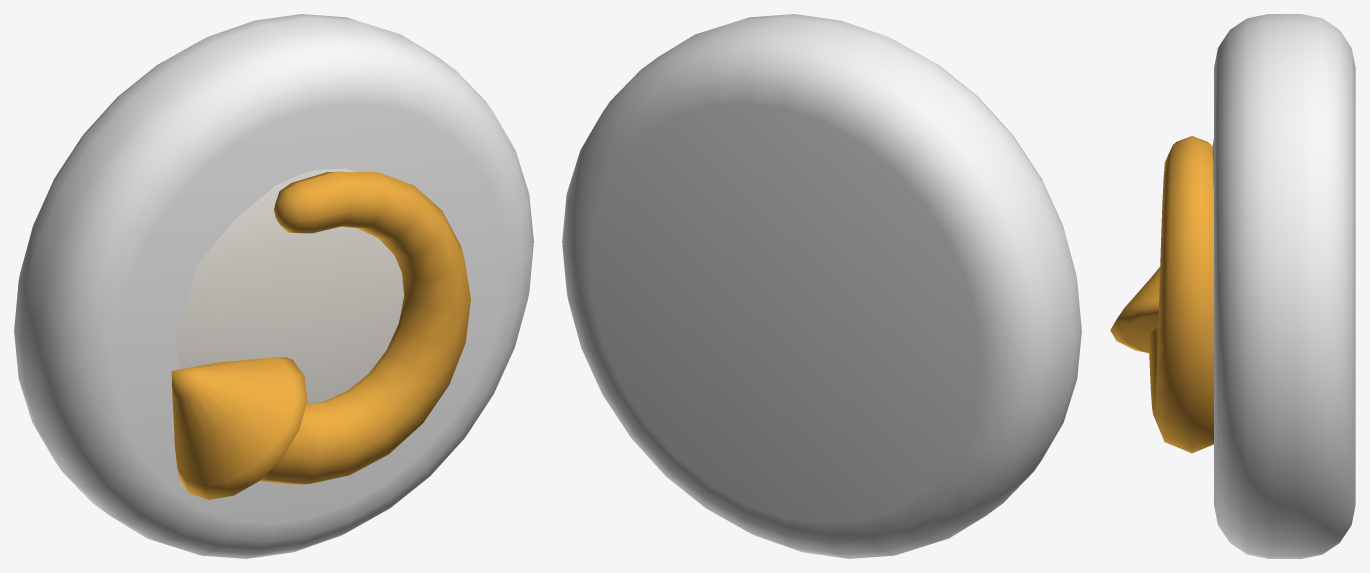
File: git_ci_running.glb
3 renders of one model, left to right at view 1: azimuth 30°, elevation 25°; view 2: azimuth 150°, elevation 25°; view 3: azimuth 270°, elevation 25°, orthographic. The views are drawn at different scales.
Visible parts, largest first — view 1: git_ci_running; view 2: git_ci_running; view 3: git_ci_running.
Part boxes in pixels (x1,y1,x2,y2): git_ci_running: (14,14,533,558); git_ci_running: (562,14,1081,558); git_ci_running: (1110,14,1355,558).
Bounding box in the file's own units: 1 × 1 × 0.45.
